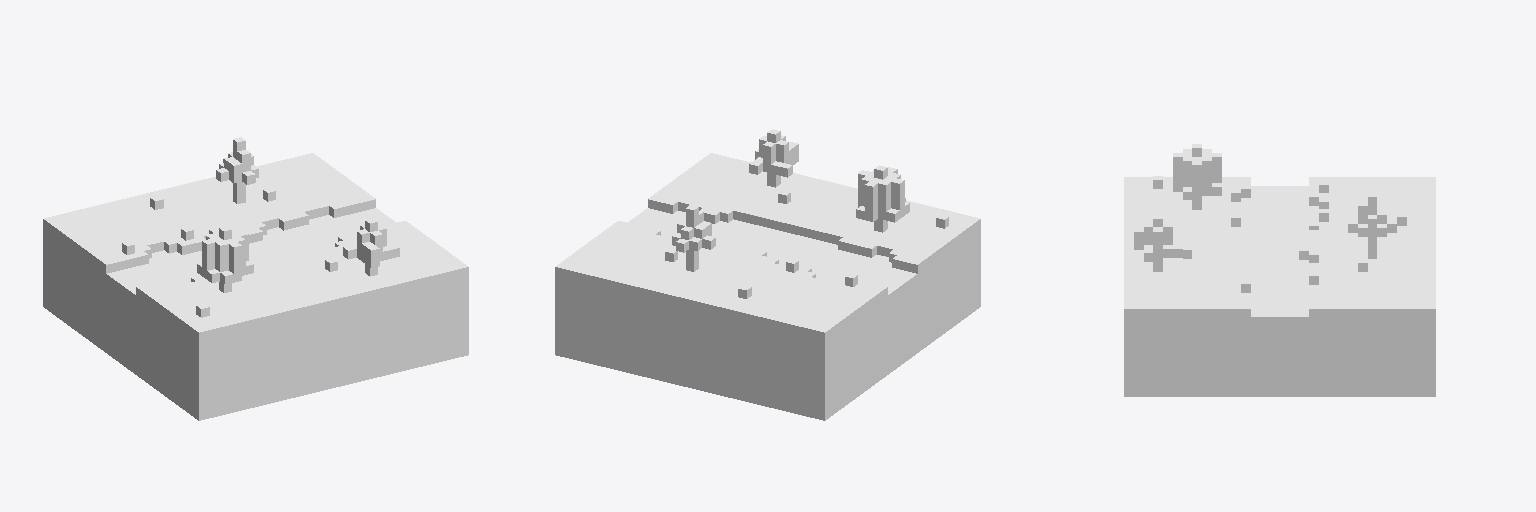
Rendered from Overworld_Land_06.obj.
The picture shows the model from 3 angles: view 1: azimuth 30°, elevation 25°; view 2: azimuth 150°, elevation 25°; view 3: azimuth 270°, elevation 25°; orthographic projection.
Visible parts, largest first — view 1: object 1; view 2: object 1; view 3: object 1.
Boxes of the visible parts, x1=… form: object 1: x1=43, y1=137, x2=468, y2=420; object 1: x1=555, y1=129, x2=980, y2=420; object 1: x1=1124, y1=144, x2=1435, y2=396.
Bounding box in the file's own units: 3.2 × 1.7 × 3.2.